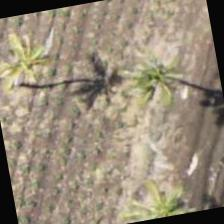Kelapa_Sawit: (103, 26, 207, 130), (0, 18, 74, 121), (110, 163, 208, 223)
